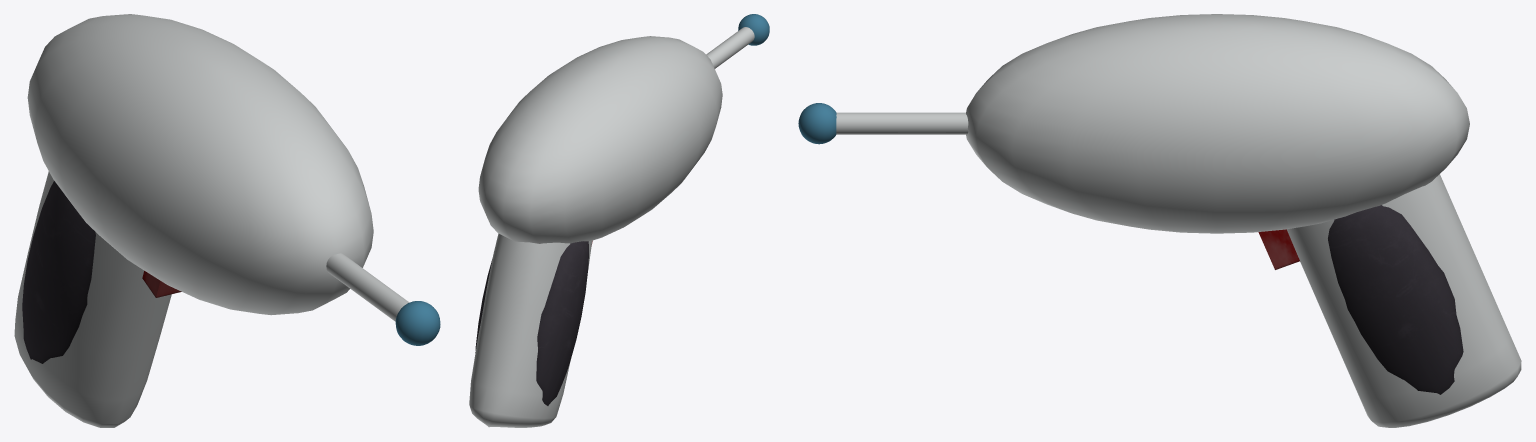
File: Tesla_Gun_TEXTURED.fbx
The picture shows the model from 3 angles, left to right: view 1: azimuth 30°, elevation 25°; view 2: azimuth 150°, elevation 25°; view 3: azimuth 270°, elevation 25°; orthographic projection. The views are drawn at different scales.
Visible parts, largest first — view 1: polySurface7; view 2: polySurface7; view 3: polySurface7.
Part boxes in pixels (x1,y1,x2,y2): polySurface7: [14, 14, 440, 427]; polySurface7: [469, 14, 769, 427]; polySurface7: [798, 14, 1521, 427].
Bounding box in the file's own units: 5.61 × 11.32 × 18.46.
Materials: 1 (1 with a texture image).
